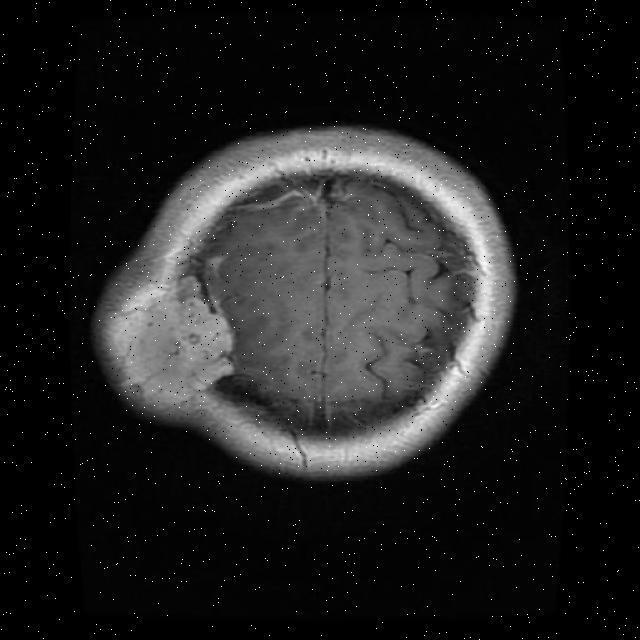Meningioma: (94, 245, 232, 415)
